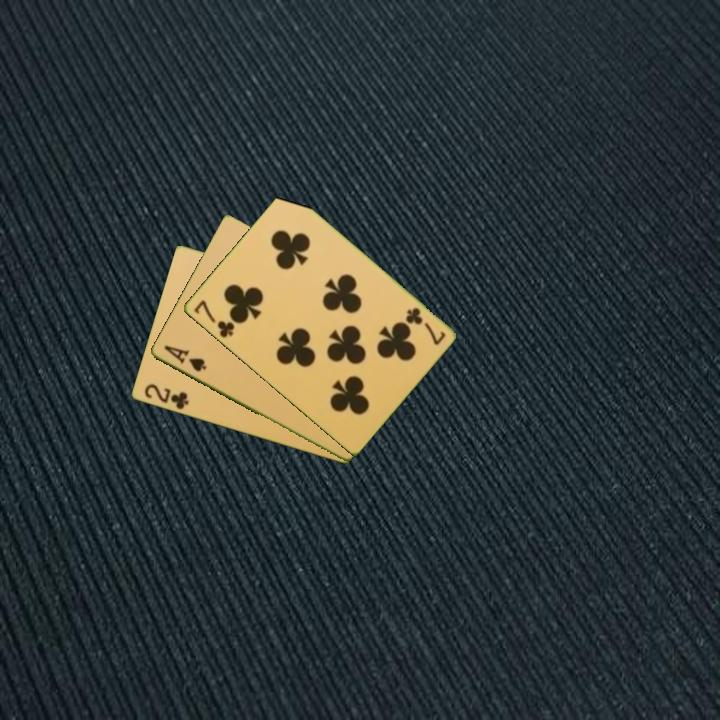2c: (140, 380, 192, 412)
7c: (190, 296, 237, 341), (401, 304, 448, 348)
As: (160, 342, 209, 375)
